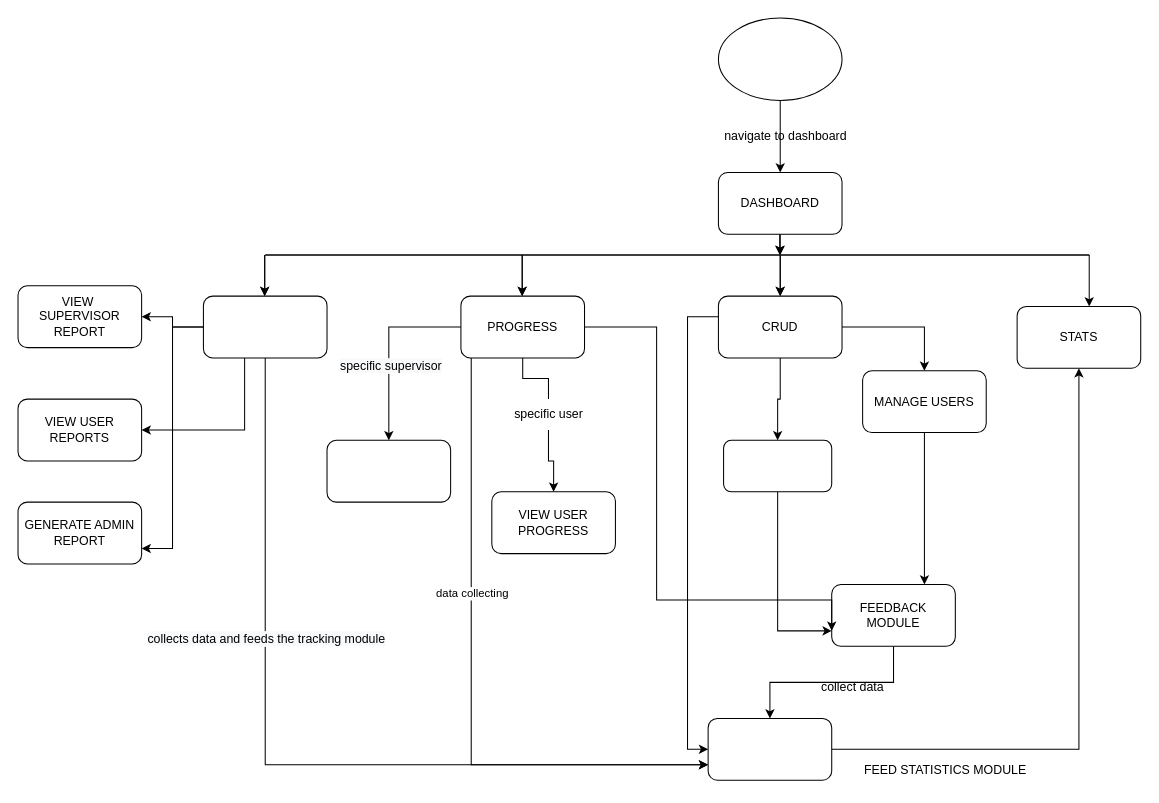
The diagram is 1159 pixels wide and 803 high, and some of its shapes have lost their labels. Each missing label, with the centre of its shape:
"GAIN ACCESS" belongs at pixel 779 58.
"MANAGE SUPERVISORS" belongs at pixel 777 465.
"REPORTS" belongs at pixel 264 326.
"TRACK MODULE" belongs at pixel 769 748.
"VIEW SUPERVISOR PROGRESS" belongs at pixel 388 470.
